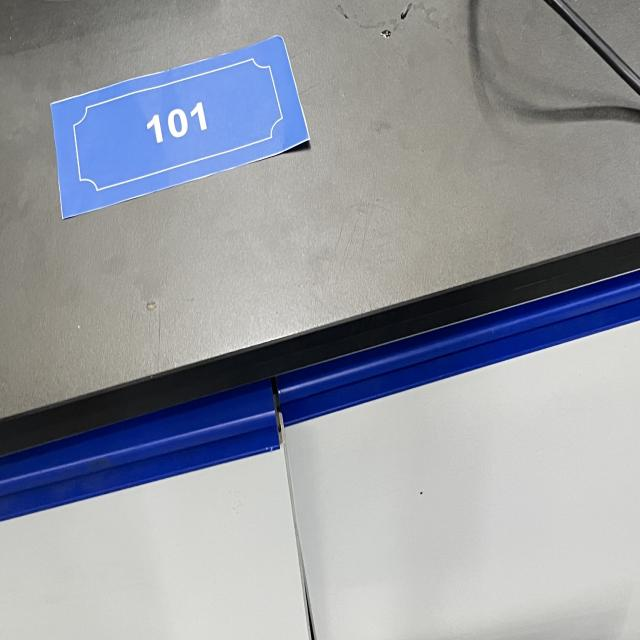Card: (39, 19, 320, 227)
